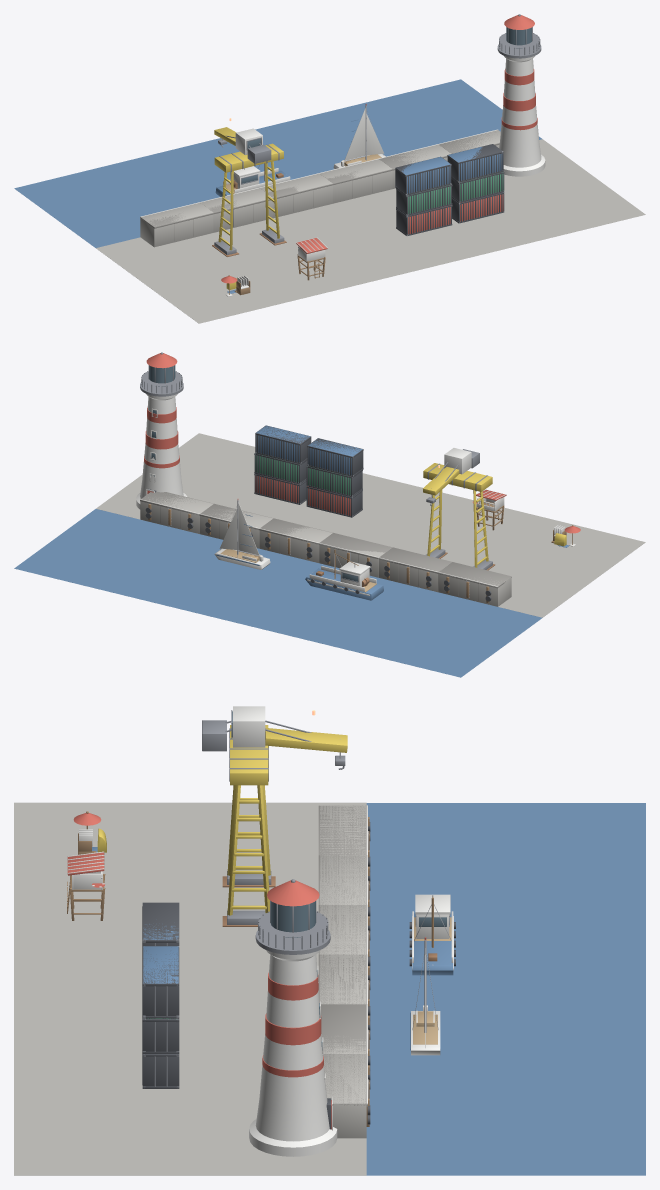
Rendered from th45_hafen.glb.
3 renders of one model, top to bottom at view 1: azimuth 30°, elevation 25°; view 2: azimuth 150°, elevation 25°; view 3: azimuth 270°, elevation 25°, orthographic. The views are drawn at different scales.
Parts seen in each view (by area): view 1: Cube, Cube.001, Schaft, Cube.002, Cube.050, Cube.034, Cube.018, Cube.307, Cube.457, Cube.120, Cube.066, Cube.357 (+6 smaller); view 2: Cube.001, Cube, Schaft, Cube.082, Cube.050, Cube.002, Cube.307, Cube.457, Cube.066, Cube.018, Cube.003, Cube.019 (+14 smaller); view 3: Cube.001, Cube, Schaft, Cube.082, Cube.050, Cube.018, Cube.067, Cube.003, Cube.034, Cube.002, Cube.120, Cube.345 (+23 smaller).
Boxes of the visible parts, x1,y1,x2,y2 form: Cube: [96, 139, 645, 323]; Cube.001: [14, 79, 542, 247]; Schaft: [499, 56, 545, 176]; Cube.002: [140, 203, 213, 247]; Cube.050: [319, 159, 392, 203]; Cube.034: [260, 173, 332, 218]; Cube.018: [200, 188, 273, 232]; Cube.307: [402, 157, 450, 193]; Cube.457: [448, 147, 502, 180]; Cube.120: [214, 143, 283, 172]; Cube.066: [390, 144, 450, 188]; Cube.357: [460, 194, 503, 221]; Cube.001: [14, 509, 542, 677]; Cube: [96, 433, 645, 617]; Schaft: [136, 394, 187, 509]; Cube.082: [140, 494, 213, 533]; Cube.050: [259, 524, 332, 562]; Cube.002: [438, 574, 511, 606]; Cube.307: [308, 438, 362, 474]; Cube.457: [256, 425, 310, 462]; Cube.066: [200, 505, 272, 548]; Cube.018: [379, 559, 447, 591]; Cube.003: [438, 562, 511, 588]; Cube.019: [379, 547, 451, 573]; Cube.001: [366, 803, 645, 1175]; Cube: [14, 802, 366, 1175]; Schaft: [249, 950, 337, 1156]; Cube.082: [323, 1054, 366, 1138]; Cube.050: [320, 954, 365, 1004]; Cube.018: [320, 855, 365, 904]; Cube.067: [321, 1004, 365, 1053]; Cube.003: [318, 805, 365, 855]; Cube.034: [320, 905, 365, 954]; Cube.002: [320, 805, 365, 855]; Cube.120: [230, 725, 268, 785]; Cube.345: [142, 902, 179, 942].
Size of the model in its own units: 60 by 19.99 by 43.
